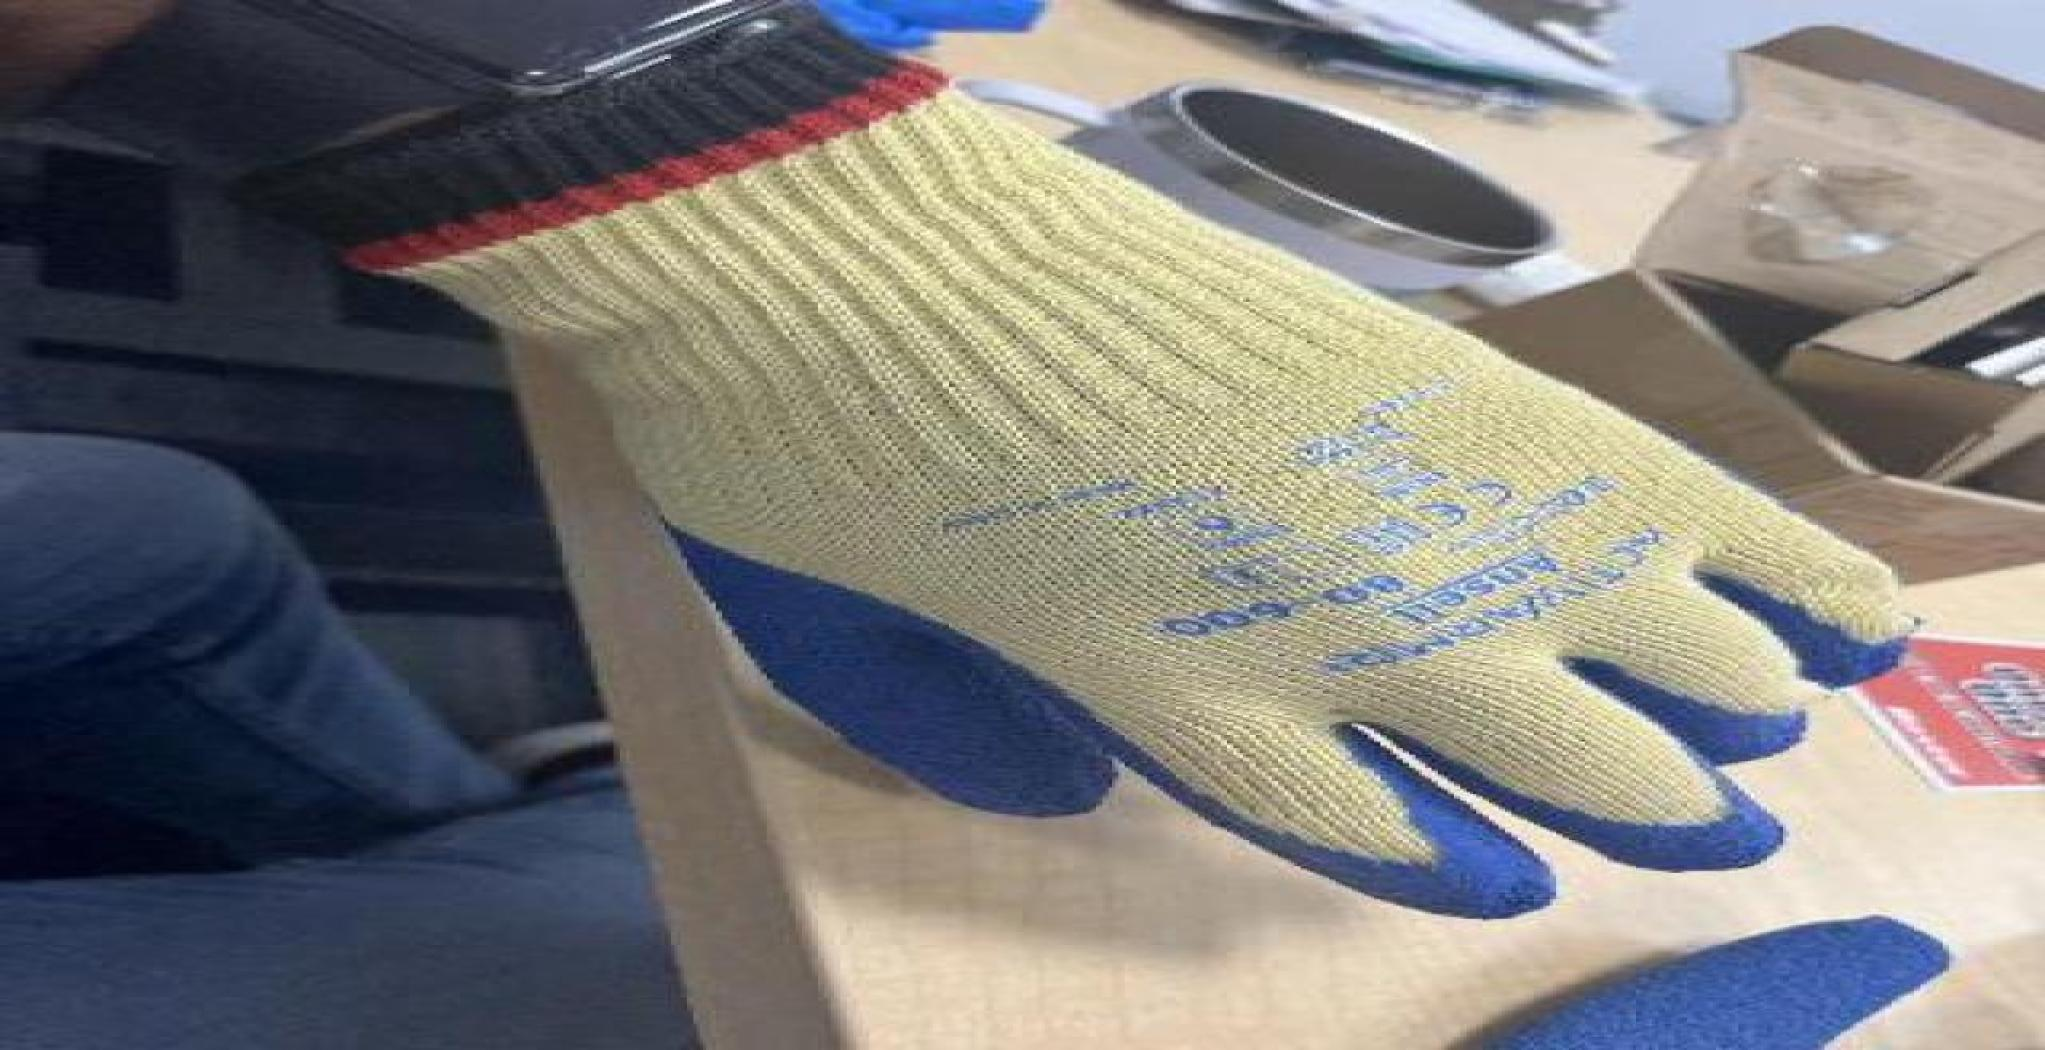gloved: (224, 5, 1923, 920)
